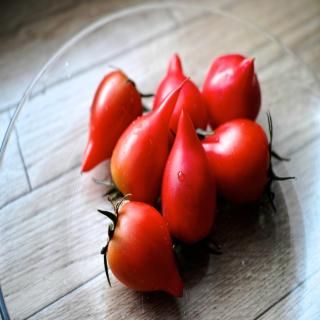tomato: (92, 74, 190, 200), (199, 108, 295, 212), (80, 63, 152, 174), (105, 195, 180, 297), (162, 110, 216, 240), (152, 55, 217, 136), (201, 52, 263, 131)
